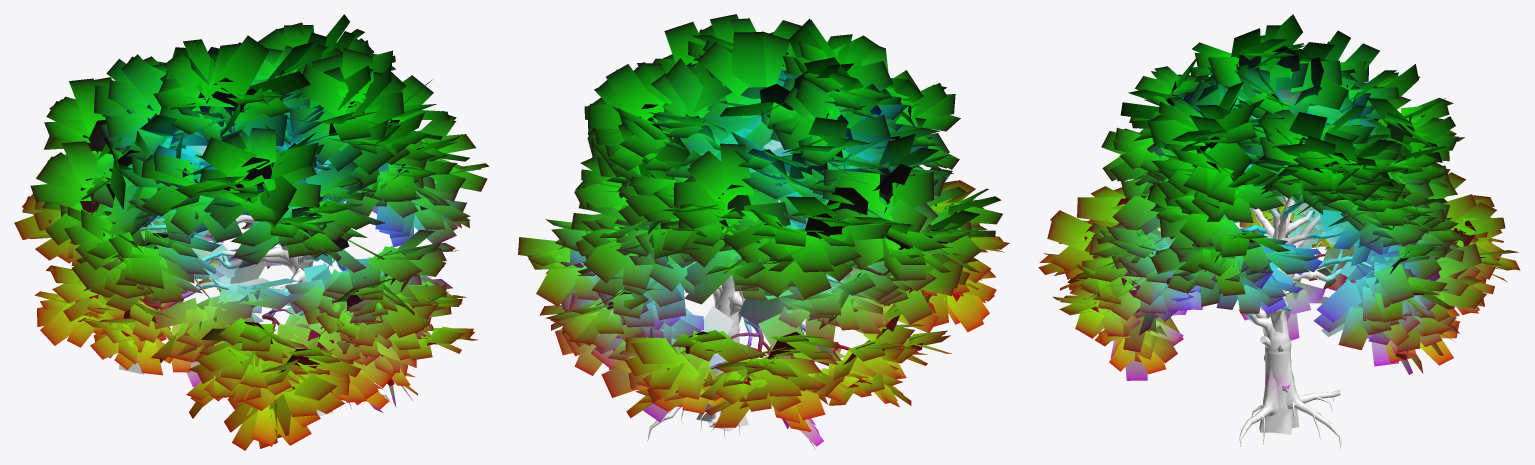
File: arden_forest_oak_04_green.fbx
3 renders of one model, left to right at view 1: azimuth 30°, elevation 25°; view 2: azimuth 150°, elevation 25°; view 3: azimuth 270°, elevation 25°, orthographic. The views are drawn at different scales.
Visible parts, largest first — view 1: arden_forest_oak_04_green_leaves, arden_forest_oak_04_green_bark; view 2: arden_forest_oak_04_green_leaves, arden_forest_oak_04_green_bark; view 3: arden_forest_oak_04_green_leaves, arden_forest_oak_04_green_bark.
Boxes of the visible parts, bbox=[...] form: arden_forest_oak_04_green_leaves: bbox=[14, 14, 489, 450]; arden_forest_oak_04_green_bark: bbox=[139, 152, 390, 415]; arden_forest_oak_04_green_leaves: bbox=[518, 14, 1009, 449]; arden_forest_oak_04_green_bark: bbox=[647, 200, 889, 440]; arden_forest_oak_04_green_leaves: bbox=[1038, 14, 1520, 380]; arden_forest_oak_04_green_bark: bbox=[1189, 195, 1374, 449].
Bounding box in the file's own units: 12.25 × 14.03 × 11.99.
